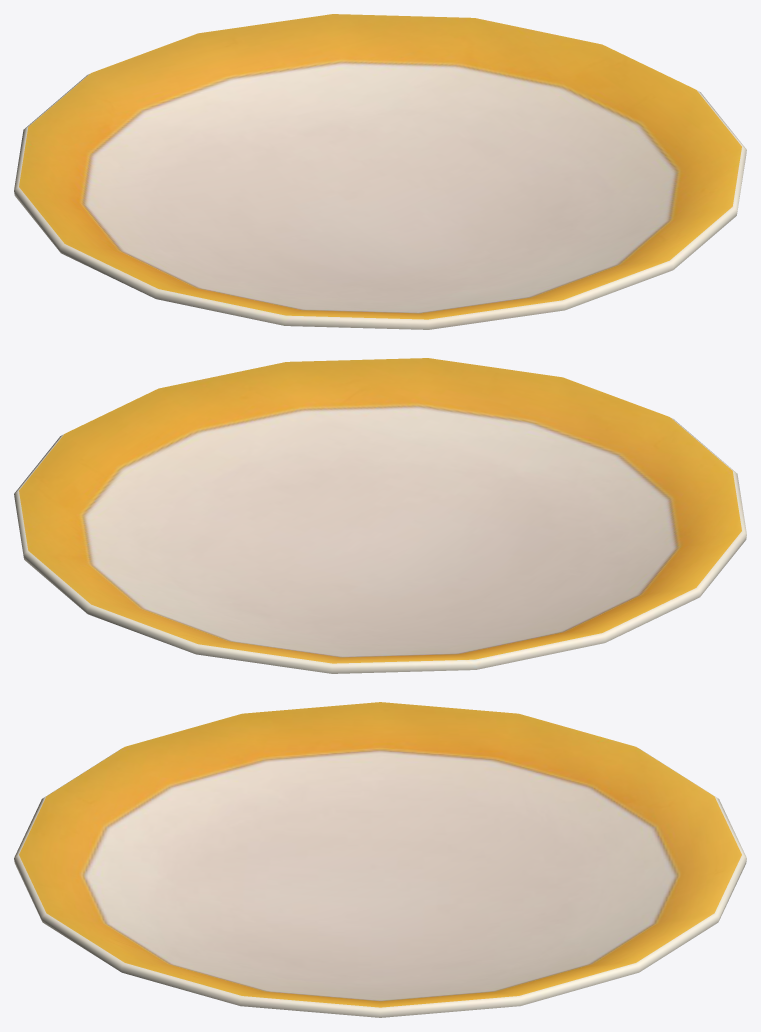
File: Veseli grad dodatak tanjir 1. mart.fbx
The picture shows the model from 3 angles, top to bottom: view 1: azimuth 30°, elevation 25°; view 2: azimuth 150°, elevation 25°; view 3: azimuth 270°, elevation 25°; orthographic projection.
Visible parts, largest first — view 1: SE_Plate_01; view 2: SE_Plate_01; view 3: SE_Plate_01.
Part boxes in pixels (<box>): SE_Plate_01: <box>14,14,746,329</box>; SE_Plate_01: <box>14,358,746,673</box>; SE_Plate_01: <box>14,702,746,1017</box>.
Size of the model in its own units: 287 by 36.72 by 287.
1 material, 1 textured.
